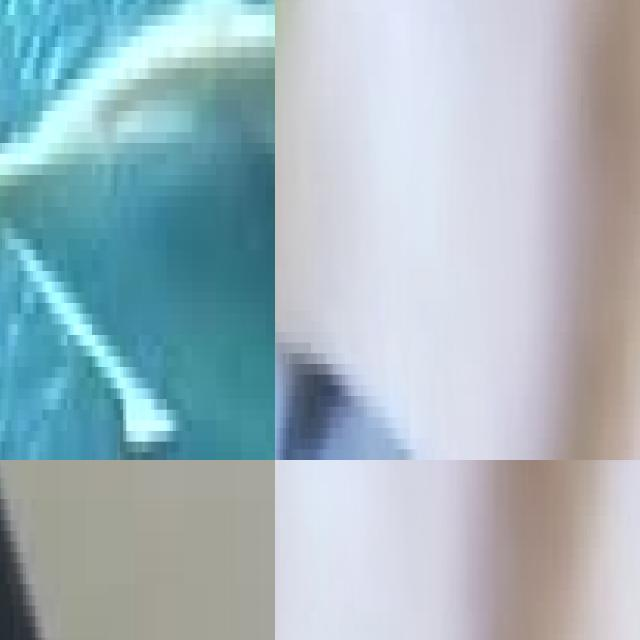fish: (0, 0, 275, 460), (0, 460, 275, 640)
